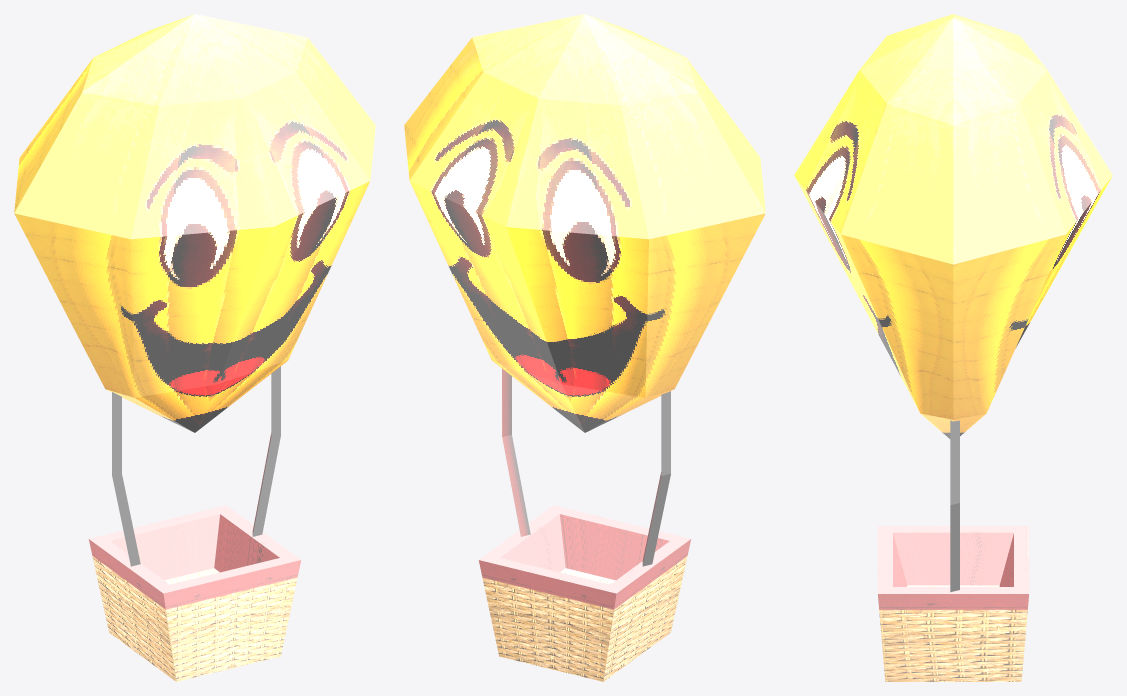
Rendered from hot_air_balloon.glb.
3 renders of one model, left to right at view 1: azimuth 30°, elevation 25°; view 2: azimuth 150°, elevation 25°; view 3: azimuth 270°, elevation 25°, orthographic.
Parts seen in each view (by area): view 1: hot_air_balloon; view 2: hot_air_balloon; view 3: hot_air_balloon.
Part boxes in pixels (x1,y1,x2,y2): hot_air_balloon: (14, 14, 375, 681); hot_air_balloon: (404, 14, 765, 681); hot_air_balloon: (794, 14, 1112, 681).
Bounding box in the file's own units: 3.18 × 5.3 × 2.4.
